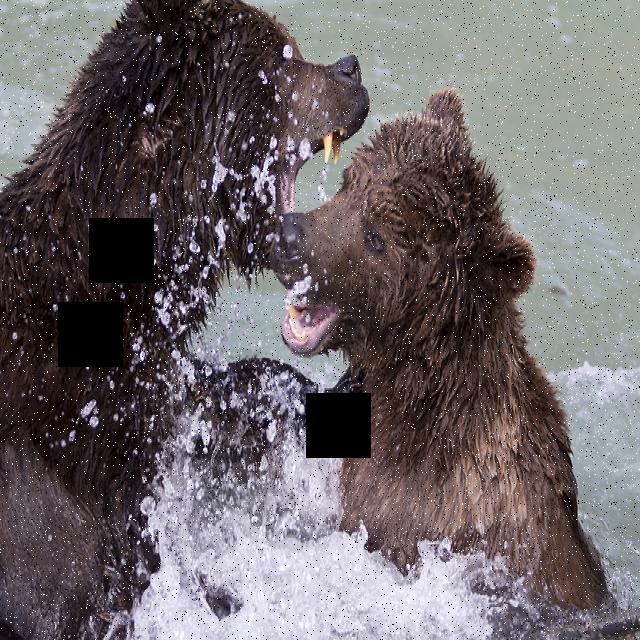Bear: (0, 3, 372, 640), (266, 87, 608, 616)
